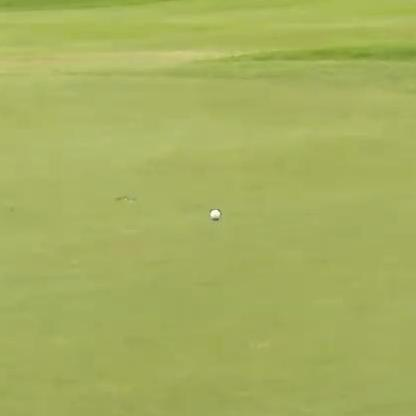golfball: (207, 207, 219, 221)
